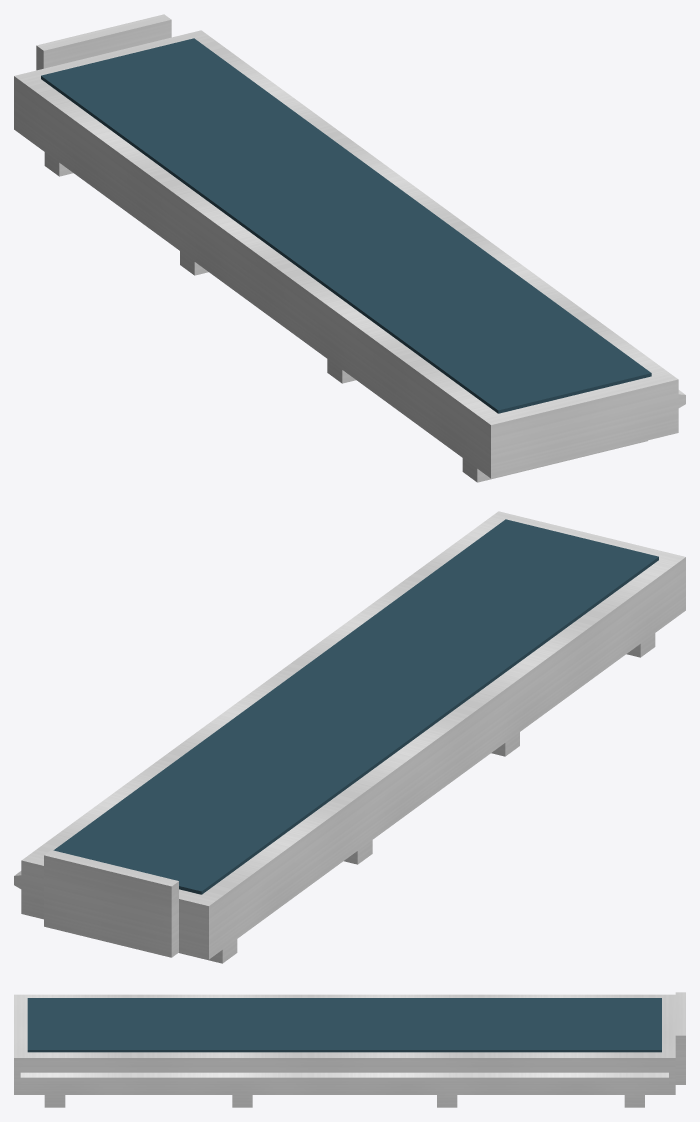
The model's file is hydroponics.obj.
The picture shows the model from 3 angles, top to bottom: view 1: azimuth 30°, elevation 25°; view 2: azimuth 150°, elevation 25°; view 3: azimuth 270°, elevation 25°; orthographic projection. The views are drawn at different scales.
Parts seen in each view (by area): view 1: hydroponics; view 2: hydroponics; view 3: hydroponics.
Part boxes in pixels (x1,y1,x2,y2): hydroponics: (14, 14, 685, 482); hydroponics: (14, 511, 685, 963); hydroponics: (14, 992, 685, 1107).
Size of the model in its own units: 0.9383 by 0.42 by 3.94.
